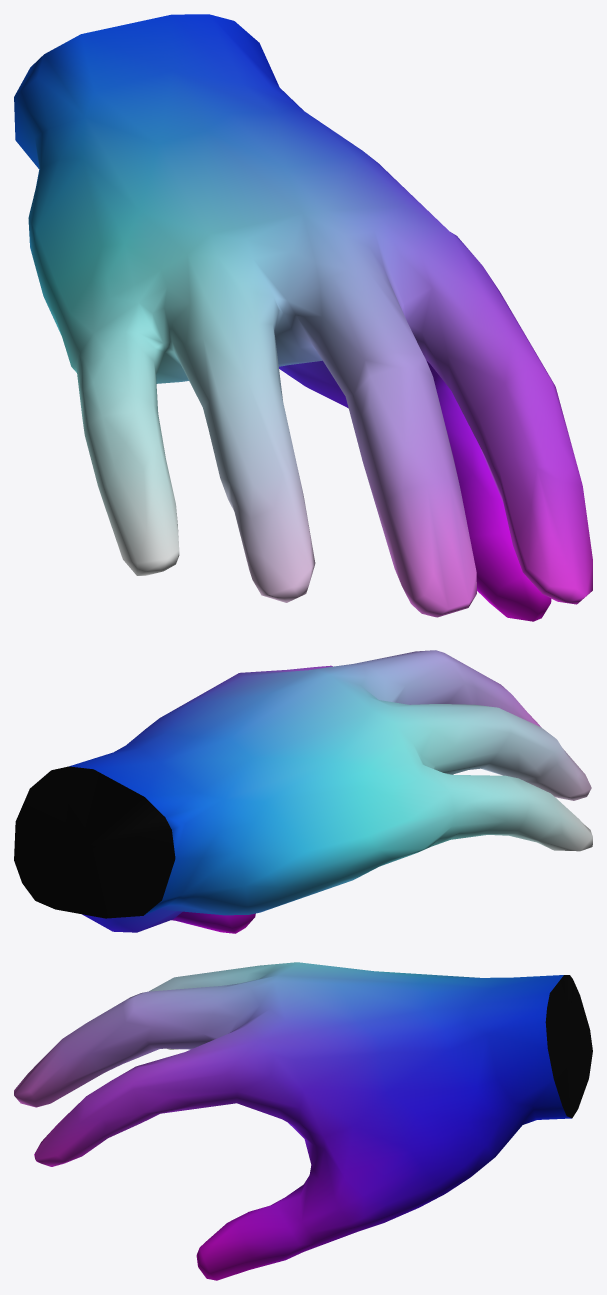
File: RightHand.fbx
3 renders of one model, top to bottom at view 1: azimuth 30°, elevation 25°; view 2: azimuth 150°, elevation 25°; view 3: azimuth 270°, elevation 25°, orthographic. The views are drawn at different scales.
Parts seen in each view (by area): view 1: hands:Rhand; view 2: hands:Rhand; view 3: hands:Rhand.
Boxes of the visible parts, <box> form: hands:Rhand: <box>14,14,592,621</box>; hands:Rhand: <box>14,650,592,933</box>; hands:Rhand: <box>14,962,592,1280</box>.
Size of the model in its own units: 12.11 by 9.82 by 19.66.
